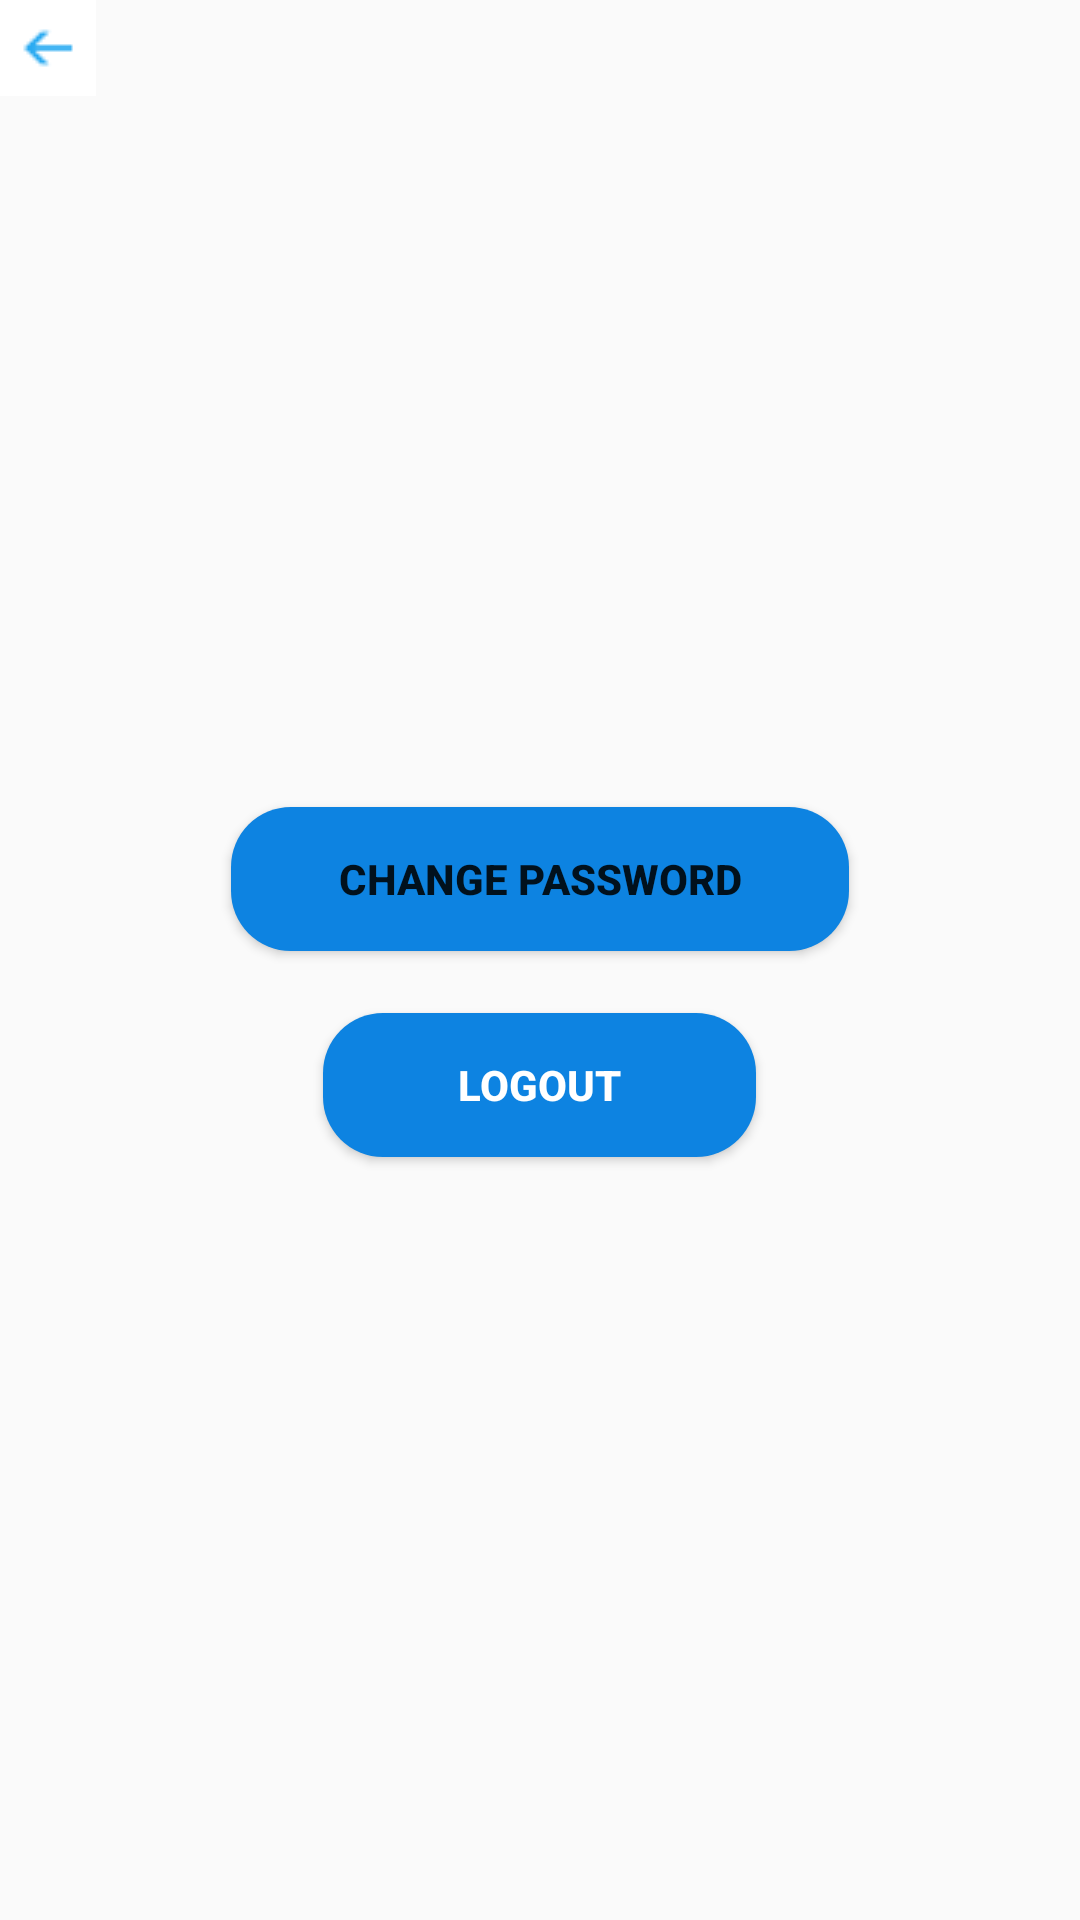

Icon bounding boxes for this 1080 x 1920 phone screenshot, format detection(x1, y1, x2, y2):
previous: detection(23, 29, 73, 67)
